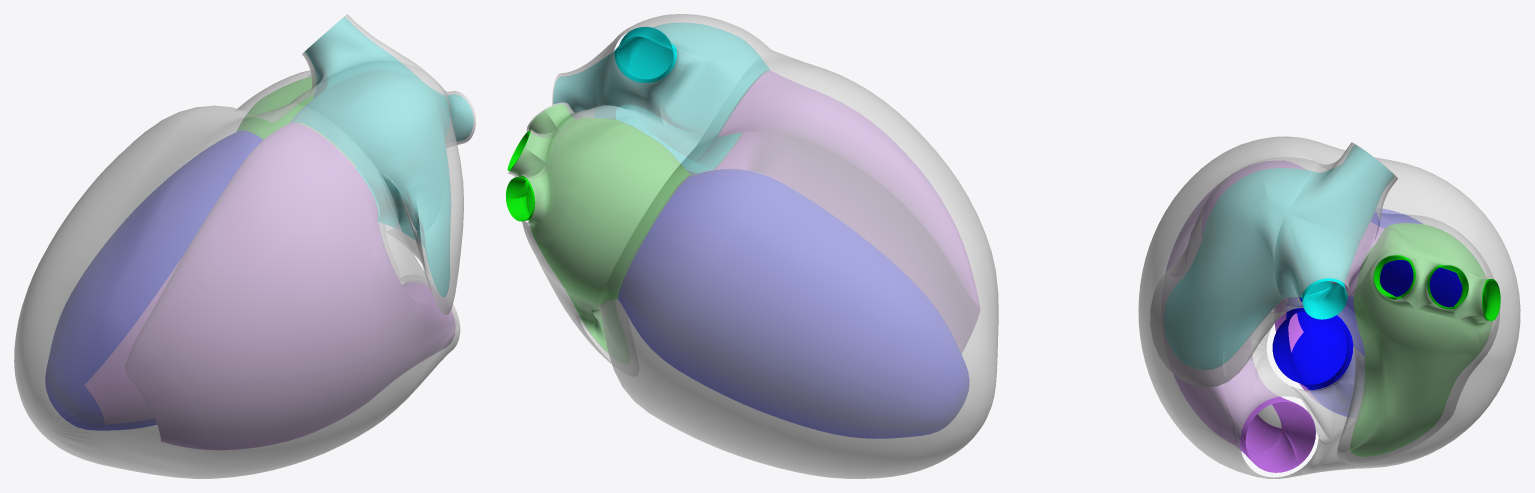
The model's file is heart.glb.
3 views of the same model, side by side, from view 1: azimuth 30°, elevation 25°; view 2: azimuth 150°, elevation 25°; view 3: azimuth 270°, elevation 25° (orthographic). The views are drawn at different scales.
Visible parts, largest first — view 1: epicardium (×2), right ventricle.mesh2d, right atrium.mesh2d, left ventricle.mesh2d, left atrium; view 2: epicardium (×2), left ventricle.mesh2d, right ventricle.mesh2d, left atrium, right atrium.mesh2d; view 3: epicardium (×2), right atrium.mesh2d, left atrium, right ventricle.mesh2d, left ventricle.mesh2d.
Boxes of the visible parts, box(x1,y1,x2,y2) form: epicardium (×2): box(14, 14, 475, 478); right ventricle.mesh2d: box(85, 123, 455, 449); right atrium.mesh2d: box(289, 17, 473, 296); left ventricle.mesh2d: box(45, 130, 262, 430); left atrium: box(237, 77, 313, 139); epicardium (×2): box(507, 14, 998, 478); left ventricle.mesh2d: box(618, 169, 969, 438); right ventricle.mesh2d: box(713, 71, 979, 353); left atrium: box(506, 104, 690, 352); right atrium.mesh2d: box(553, 23, 769, 174); epicardium (×2): box(1138, 136, 1520, 478); right atrium.mesh2d: box(1164, 145, 1394, 369); left atrium: box(1350, 223, 1500, 456); right ventricle.mesh2d: box(1166, 160, 1383, 472); left ventricle.mesh2d: box(1272, 209, 1462, 416).
Bounding box in the file's own units: 11071 × 9108 × 8439.
